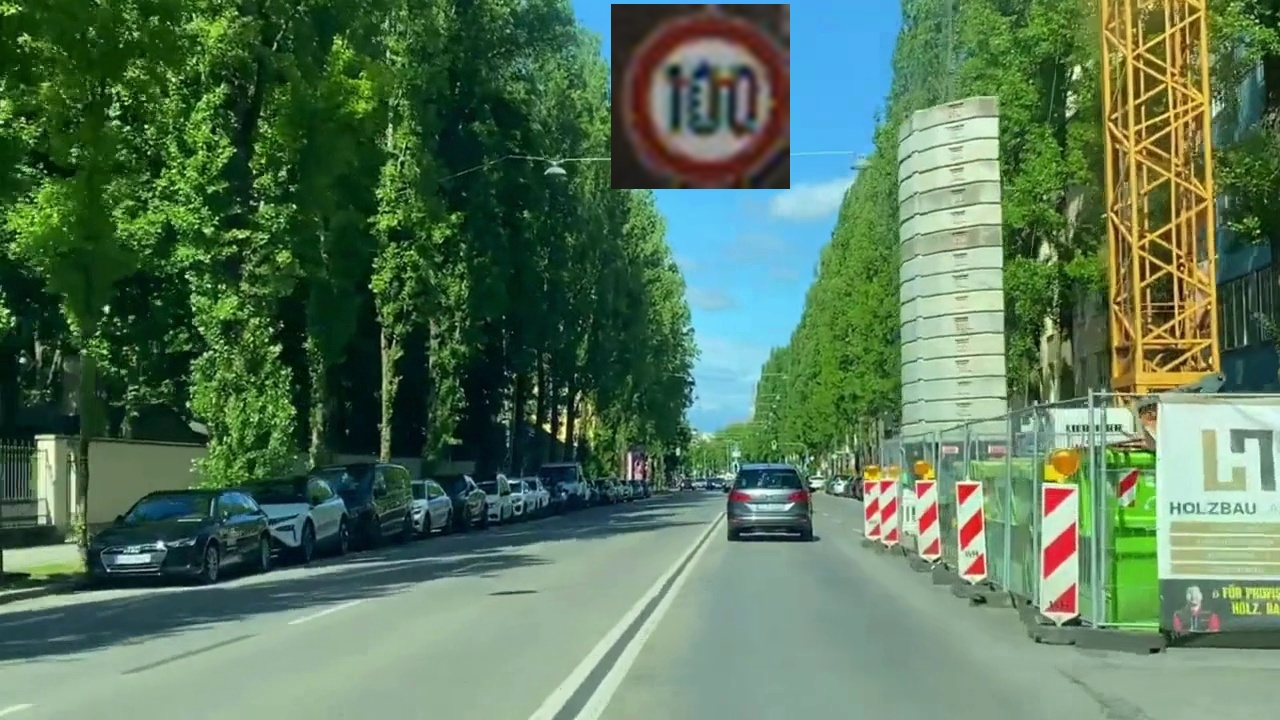Speed 100: (611, 4, 790, 189)
